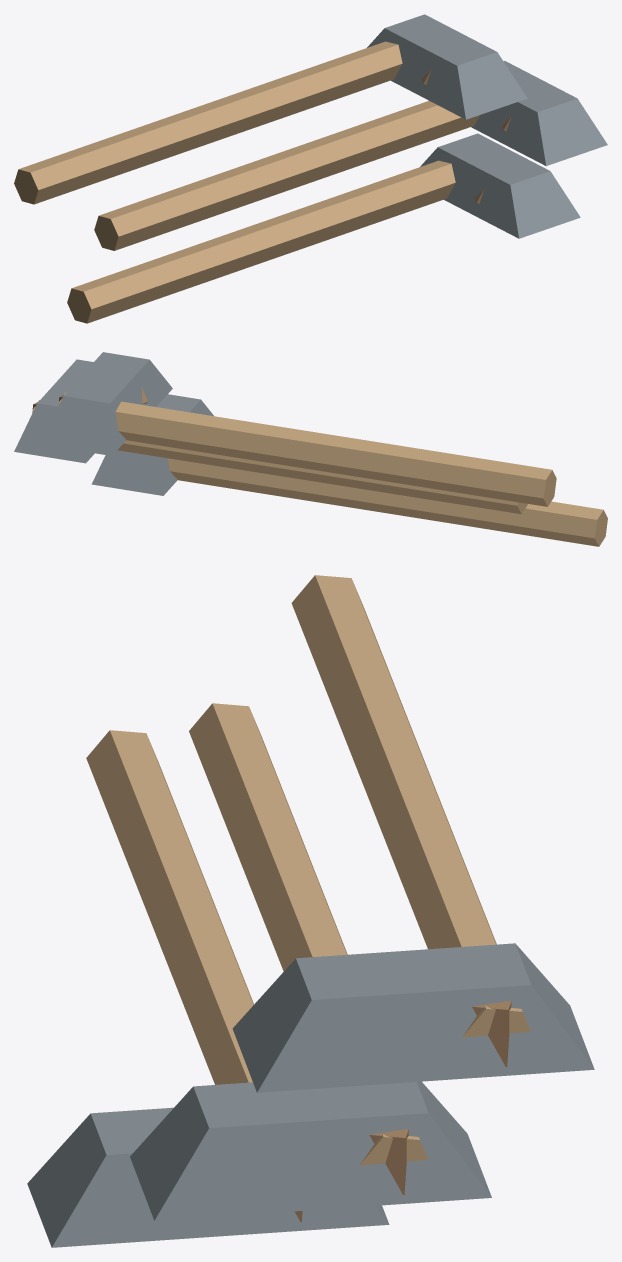
The model's file is item_104_iron_axe_m.glb.
3 views of the same model, one above another, from view 1: azimuth 30°, elevation 25°; view 2: azimuth 150°, elevation 25°; view 3: azimuth 270°, elevation 25° (orthographic). The views are drawn at different scales.
Parts seen in each view (by area): view 1: item_104_iron_axe_m; view 2: item_104_iron_axe_m; view 3: item_104_iron_axe_m.
Part boxes in pixels (x1,y1,x2,y2): item_104_iron_axe_m: (14, 14, 607, 323); item_104_iron_axe_m: (14, 352, 607, 546); item_104_iron_axe_m: (27, 575, 594, 1247).
Size of the model in its own units: 0.7039 by 0.1594 by 0.3318.
